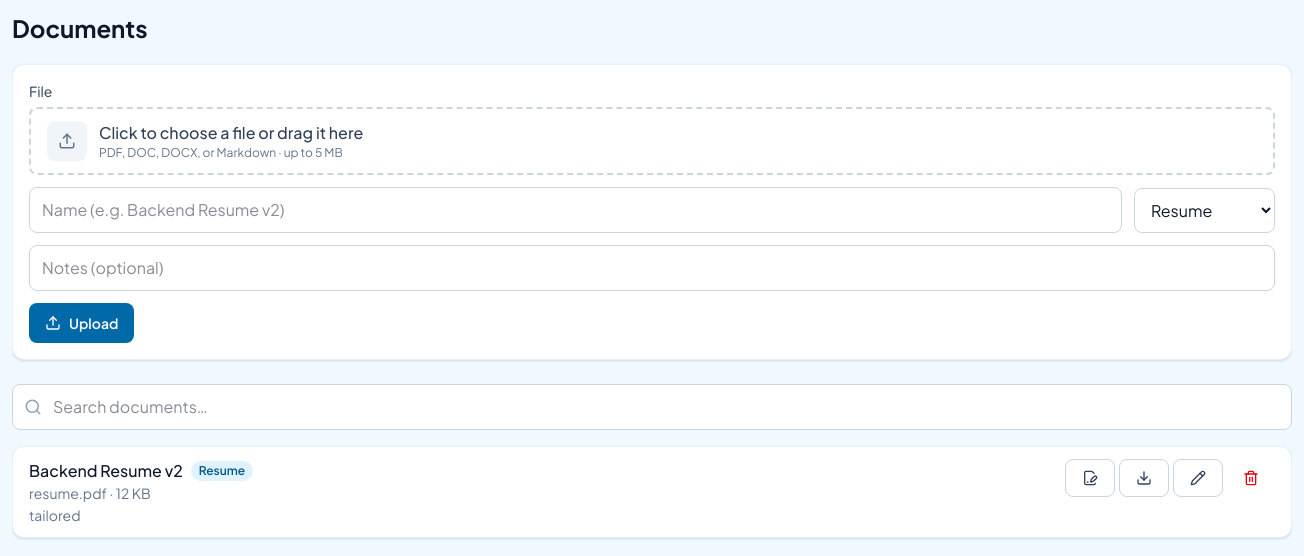
Scenario: shows an error if a download fails
Check: the text "Backend Resume v2" is shown, box [29, 459, 183, 483]
Step 1. Click the button named "download backend resume v2" → point(1144, 478), box [1119, 459, 1169, 497]
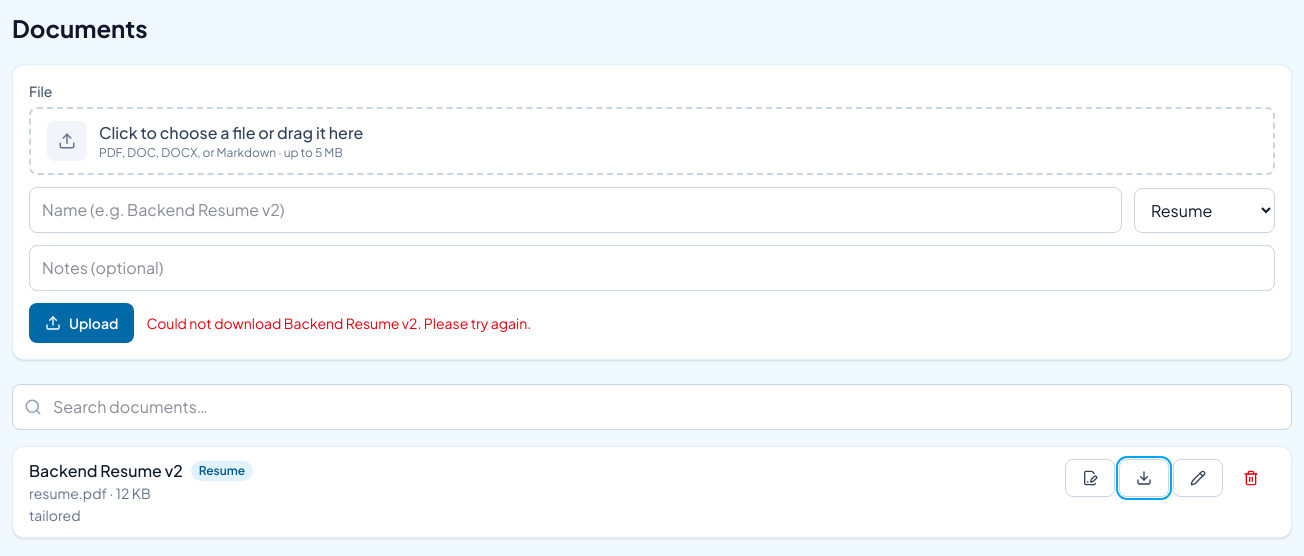
Check: the message shows "Could not download", box [146, 314, 531, 332]
